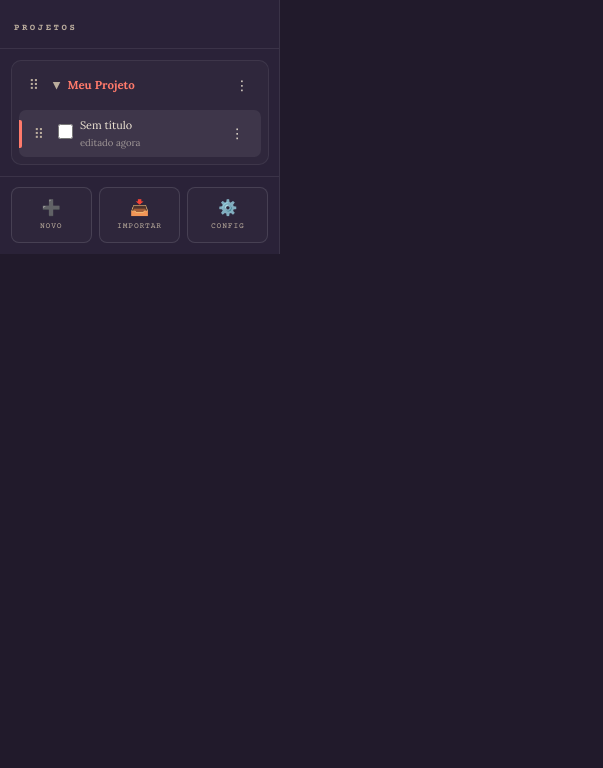
Scenario: ProjectsSidebar + useProjects › archive feature › flips the menu label between Arquivar/Desarquivar without a confirm dialog
Click the button named "Mais opções do projeto Meu Projeto": {"x": 242, "y": 86} x1=227 y1=71 x2=257 y2=101
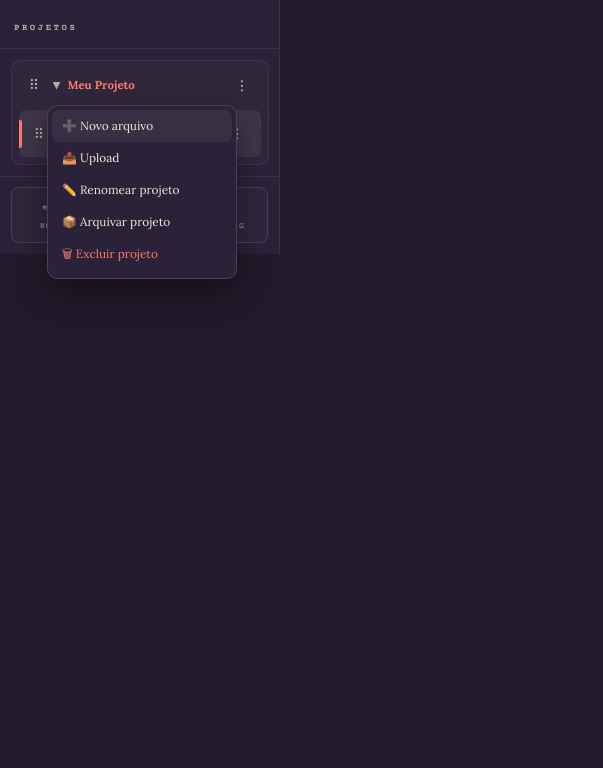
Click the menu item "📦 Arquivar projeto": {"x": 142, "y": 221} x1=52 y1=205 x2=232 y2=237
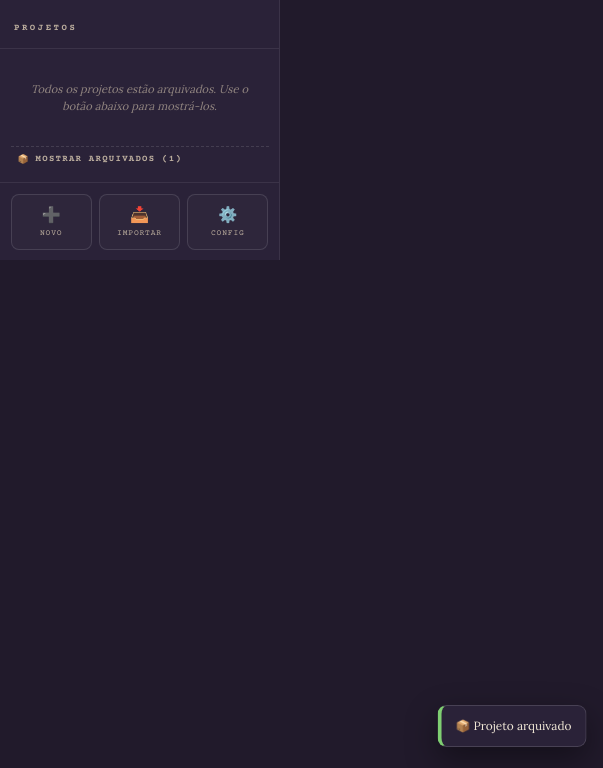
Reveal it, then open its menu again to check the label flipped.
Click the button "📦 Mostrar arquivados (1)": {"x": 140, "y": 159} x1=10 y1=146 x2=268 y2=172
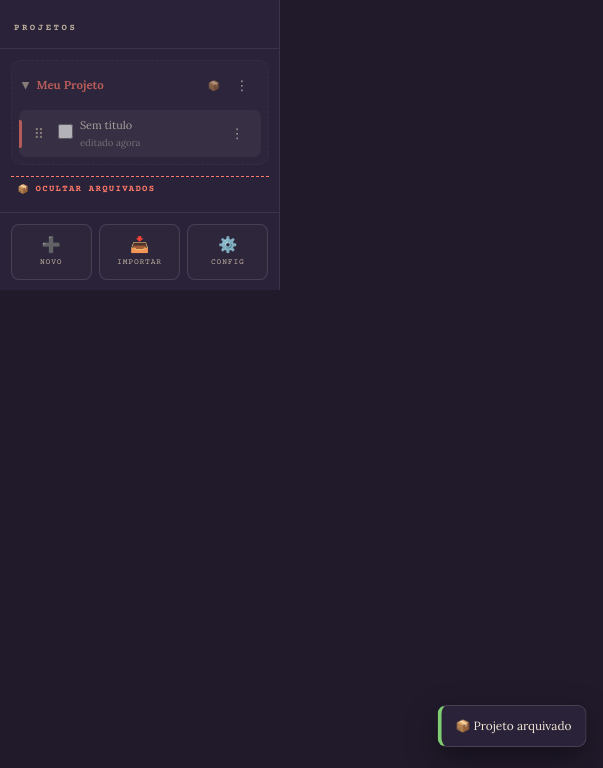
Click the button named "Mais opções do projeto Meu Projeto": {"x": 242, "y": 86} x1=227 y1=71 x2=257 y2=101
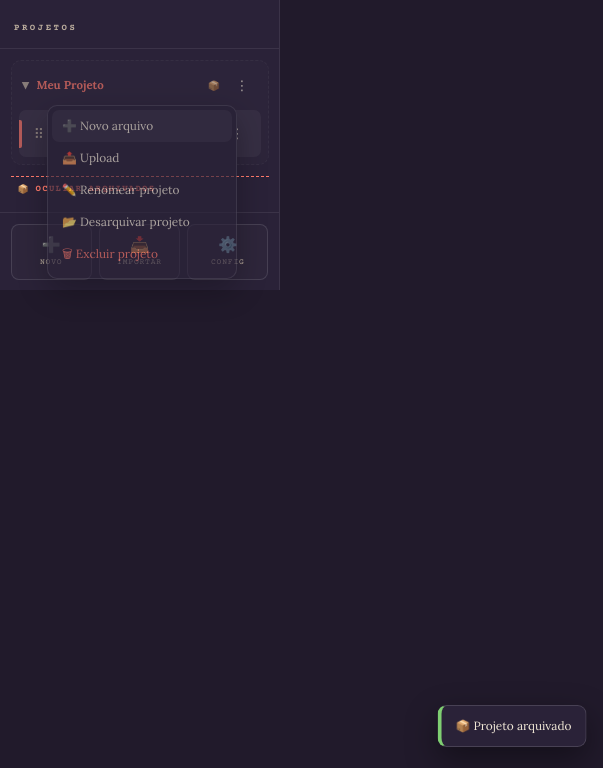
expect the menu item "📂 Desarquivar projeto" is shown: met, box x1=52 y1=205 x2=232 y2=237
